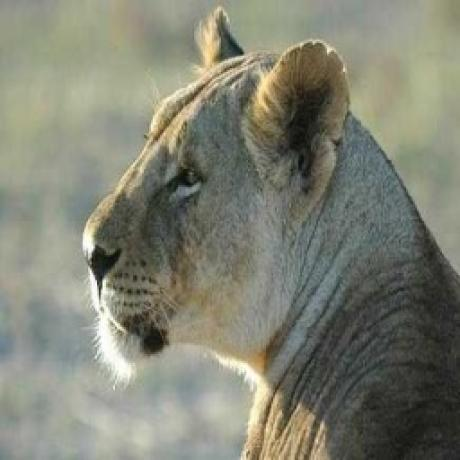Lion: (79, 5, 458, 460)
